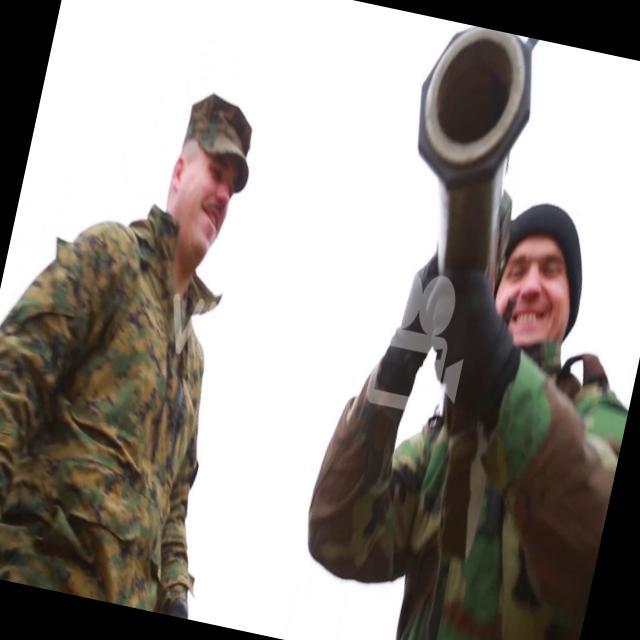rocket: (380, 20, 546, 299)
